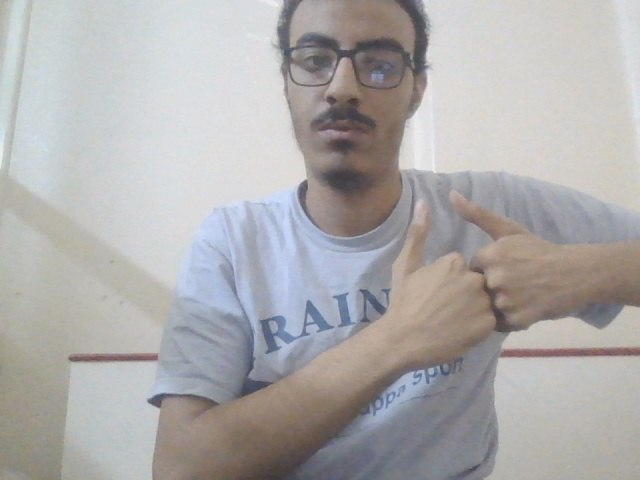Game: (374, 187, 591, 364)
